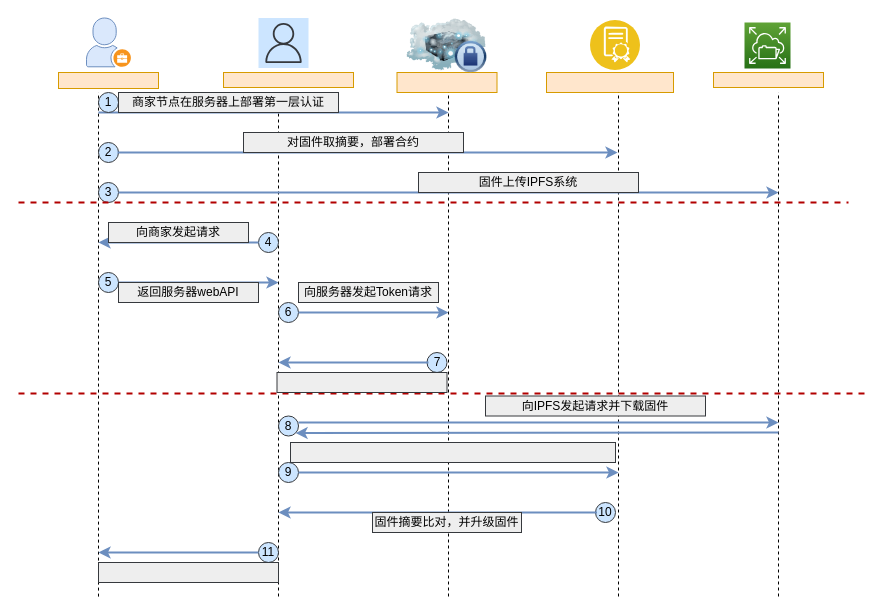
Some shapes in this 887 by 615 pixel diagram are drawn without their labels. Each missing label, with the box of its shape:
IPFS系统: (712, 72, 824, 88)
SmartContract: (546, 72, 674, 92)
User: (258, 17, 308, 68)
User&设备节点: (222, 72, 354, 88)
使用Token权限，访问区块链智能合约，获得固件哈希及签名: (290, 442, 616, 462)
商家节点: (58, 72, 158, 88)
服务器: (396, 72, 497, 92)
比对摘要不同结果返回商家节点: (98, 562, 278, 582)
获得Token令牌及IPFS地址: (276, 372, 447, 392)
